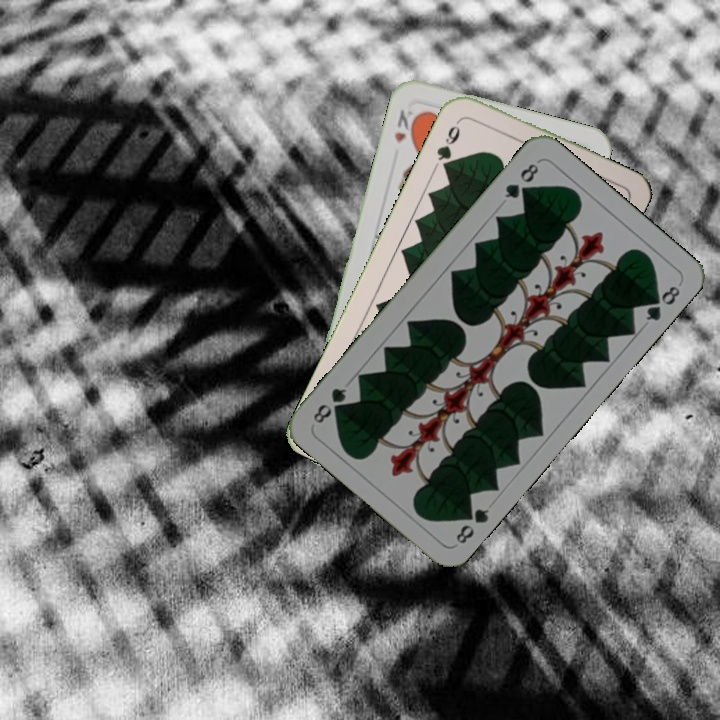G8: (500, 158, 542, 202), (452, 502, 492, 547)
G9: (432, 114, 465, 173)
HK: (390, 105, 421, 146)
